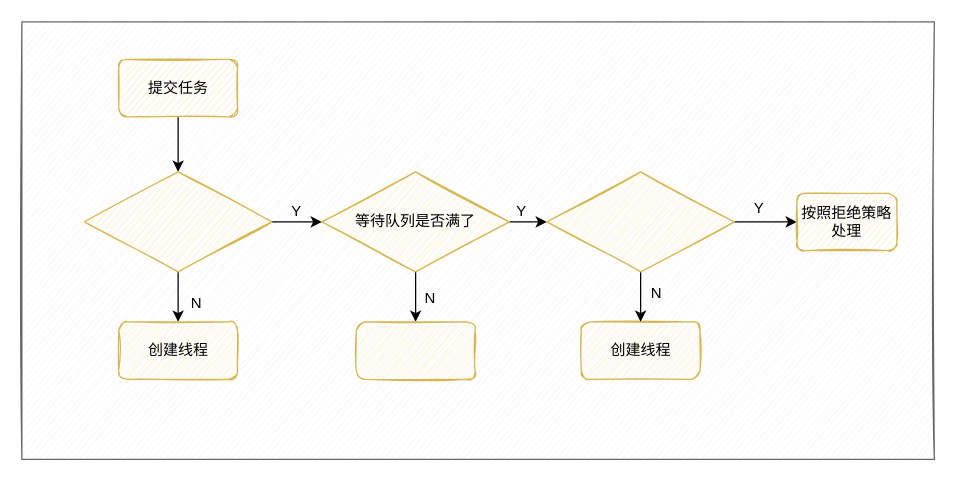
The diagram is 956 pixels wide and 481 high, and some of its shapes have lost their labels. The centre of each missing label's shape, as x and y in pixels:
加入队列: the point at 415,350
核心线程池是否满了: the point at 177,221
线程池是否满了: the point at 640,221
